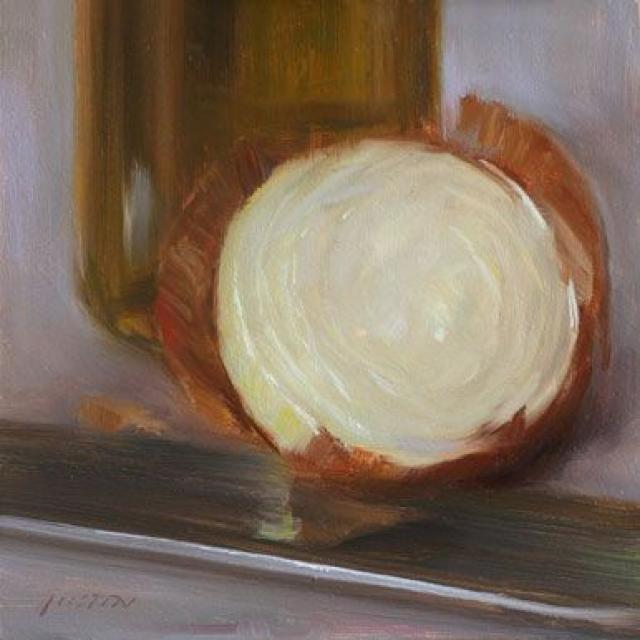onion: (198, 129, 590, 480)
